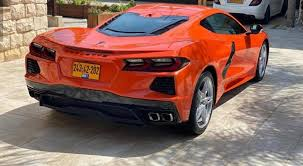licence: (72, 60, 100, 81)
